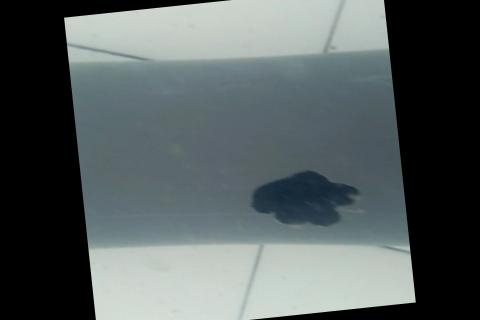kebocoran: (244, 162, 368, 236)
